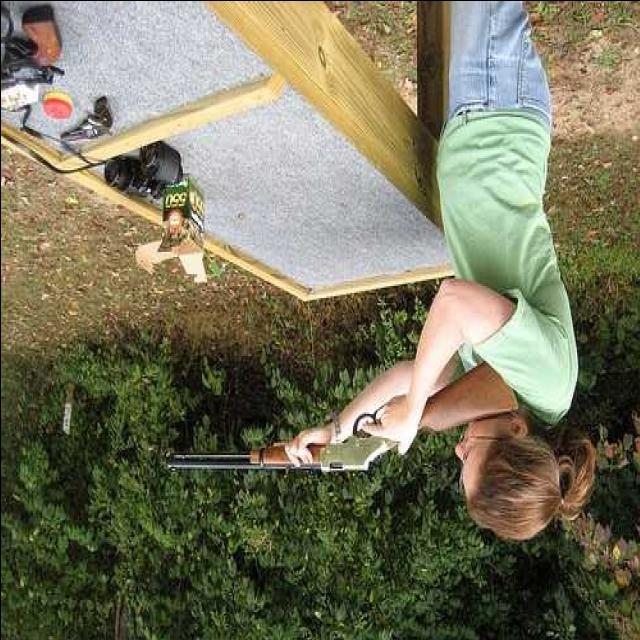heavyweapon: (148, 321, 540, 515)
